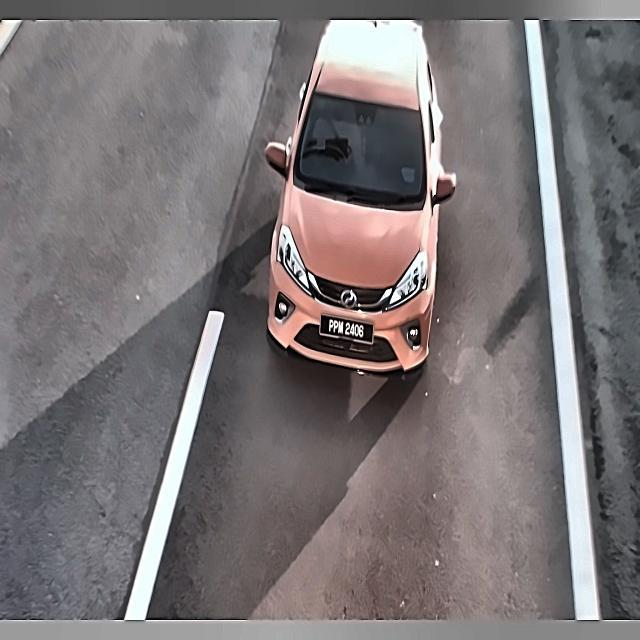car: (318, 309, 380, 348)
